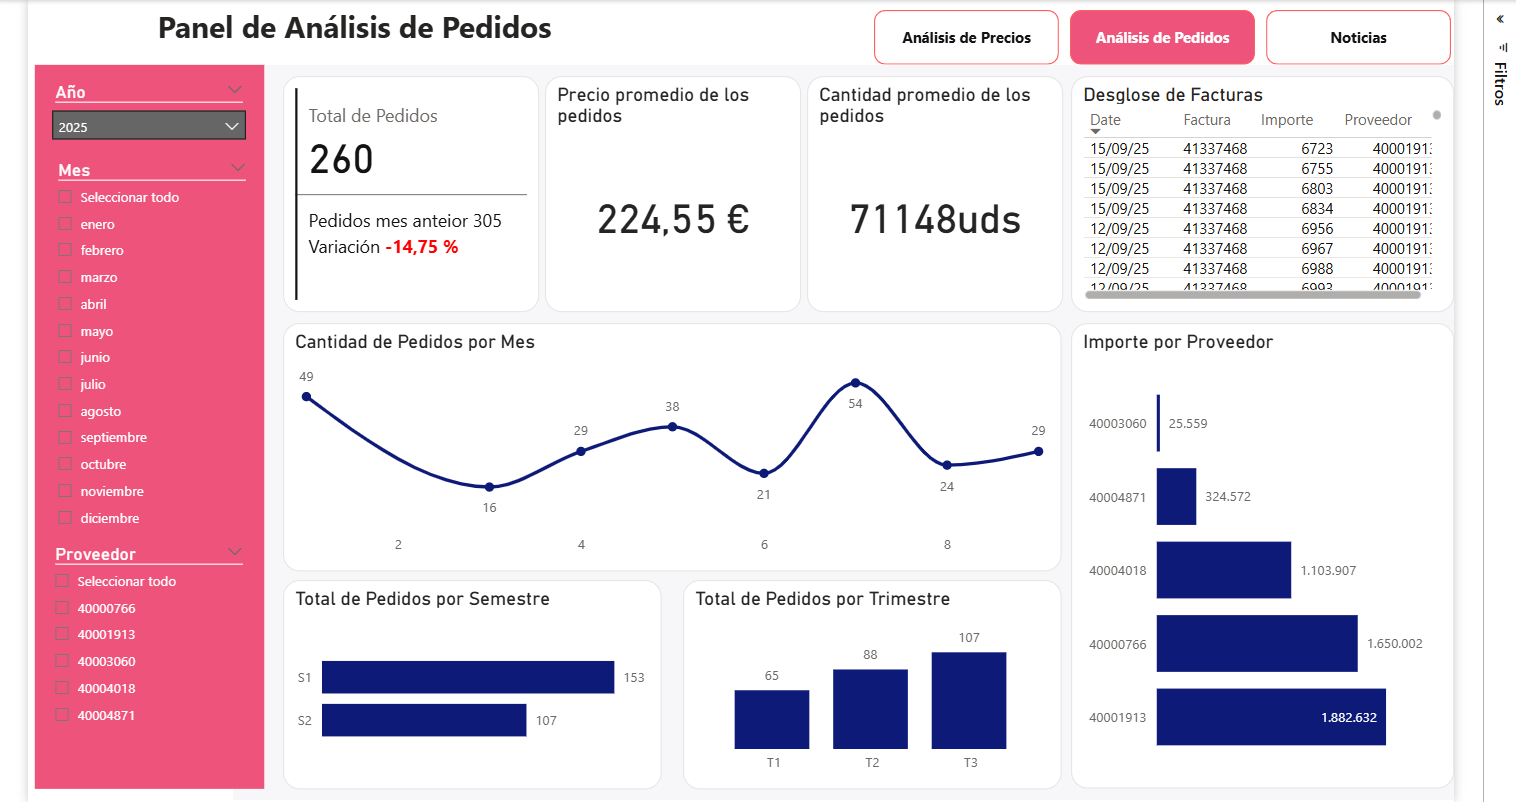

The dashboard page shown, as its layout file describes it:
{"tool":"powerbi","page":{"name":"Análisis de Pedidos","canvas":[1280,720],"ordinal":1},"visuals":[{"type":"cardVisual","fields":{"Data":["PedidoLin.Total de Pedidos"]},"box":[228.6,68.1,230,212],"z":0},{"type":"card","title":"Precio promedio de los pedidos","fields":{"Values":["Avg(PedidoLin.Precio)"]},"box":[464,68.1,229.5,212],"z":1000},{"type":"lineChart","title":"Cantidad de Pedidos por Mes","fields":{"Y":["PedidoLin.Total de Pedidos"],"Category":["Calendario.Mes"]},"box":[228.9,290,699.4,222.6],"z":2000},{"type":"slicer","fields":{"Values":["Calendario.Año"]},"box":[11.7,68.1,193.6,70],"z":3000},{"type":"slicer","fields":{"Values":["Calendario.NombreMes"]},"box":[14.4,138.3,193.9,343.8],"z":4000},{"type":"barChart","fields":{"Category":["Calendario.Semestre"],"Y":["PedidoLin.Total de Pedidos"]},"box":[228.6,520.4,340.4,187.7],"z":5000},{"type":"columnChart","fields":{"Category":["Calendario.Trimestre"],"Y":["PedidoLin.Total de Pedidos"]},"box":[588.4,520.4,340.4,187.7],"z":6000},{"type":"textbox","box":[110.9,0,432.8,68.1],"z":7000},{"type":"slicer","fields":{"Values":["PedidoLin.Proveedor (Right)"]},"box":[11.7,483.4,193.6,214],"z":8000},{"type":"card","title":"Cantidad promedio de los pedidos","fields":{"Values":["Avg(PedidoLin.Cantidad)"]},"box":[699.3,68.1,229.5,212],"z":9000},{"type":"pageNavigator","box":[759.6,8.8,520.4,49.6],"z":10000},{"type":"tableEx","title":"Desglose de Facturas","fields":{"Values":["Calendario.Date","PedidoLin.Factura (Right)","PedidoLin.Importe","PedidoLin.Proveedor (Right)"]},"box":[936.7,68.1,343.3,212],"z":11000},{"type":"barChart","title":"Importe por Proveedor","fields":{"Category":["PedidoLin.Proveedor (Right)"],"Y":["Sum(PedidoLin.Importe)"]},"box":[936.4,290,343.8,418.4],"z":12000}]}

Visuals, with their boxes on the page's 1280x720 design canvas (x1, y1, x2, y2). These are canvas units, not pixel positions in the 1516x802 screenshot, which may show the page scaled, cropped or inside an application window:
cardVisual - PedidoLin.Total de Pedidos: 229/68/459/280
"Precio promedio de los pedidos" card: 464/68/694/280
"Cantidad de Pedidos por Mes" lineChart: 229/290/928/513
slicer - Calendario.Año: 12/68/205/138
slicer - Calendario.NombreMes: 14/138/208/482
barChart - Calendario.Semestre x PedidoLin.Total de Pedidos: 229/520/569/708
columnChart - Calendario.Trimestre x PedidoLin.Total de Pedidos: 588/520/929/708
textbox: 111/0/544/68
slicer - PedidoLin.Proveedor (Right): 12/483/205/697
"Cantidad promedio de los pedidos" card: 699/68/929/280
pageNavigator: 760/9/1280/58
"Desglose de Facturas" tableEx: 937/68/1280/280
"Importe por Proveedor" barChart: 936/290/1280/708
